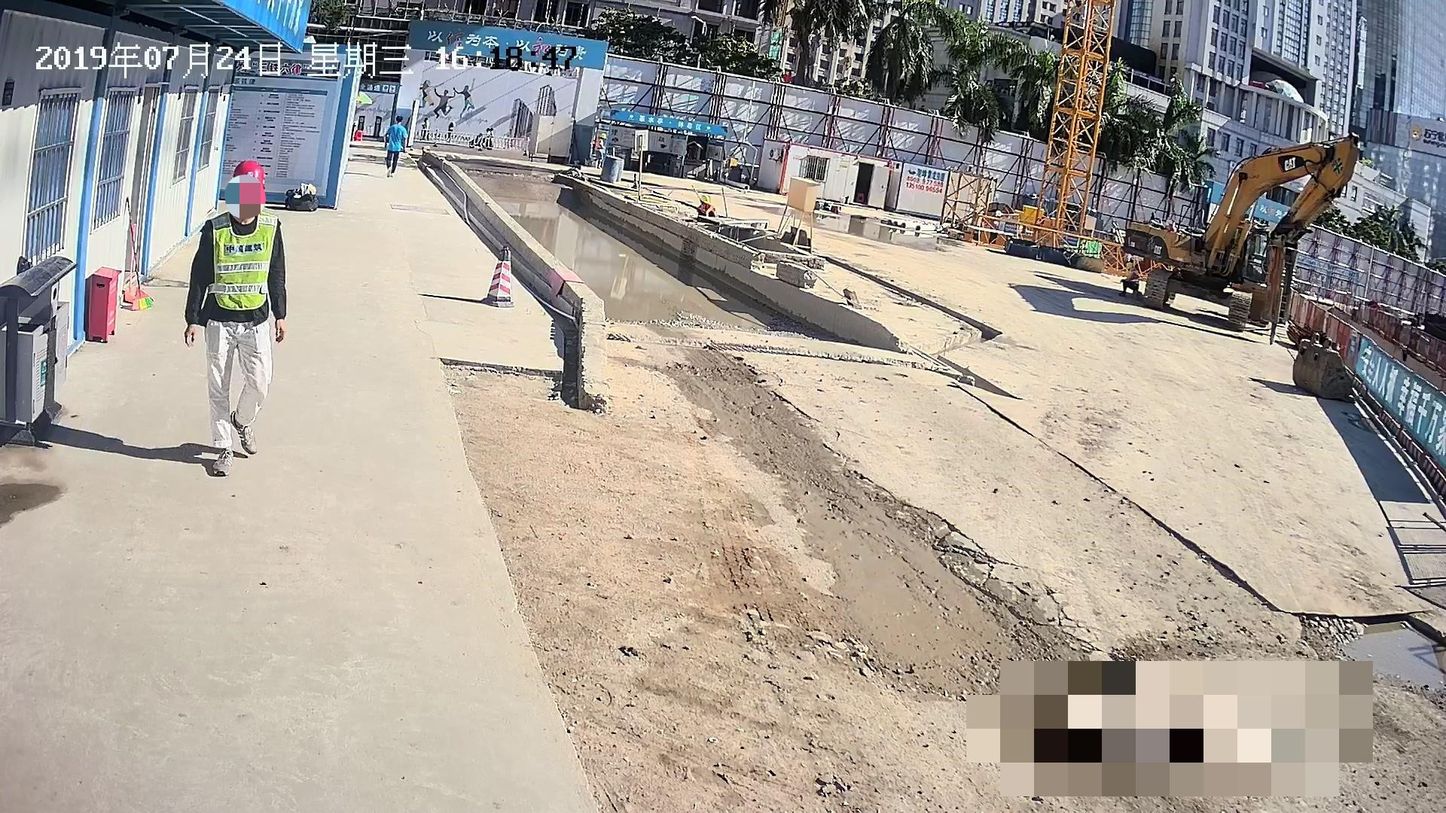hat: (226, 160, 267, 215), (697, 194, 711, 206), (1124, 262, 1135, 273), (598, 132, 608, 140)
head: (394, 114, 404, 124)
person: (182, 160, 291, 479), (381, 115, 410, 178), (1115, 260, 1140, 297), (587, 132, 609, 169), (695, 193, 719, 218)
